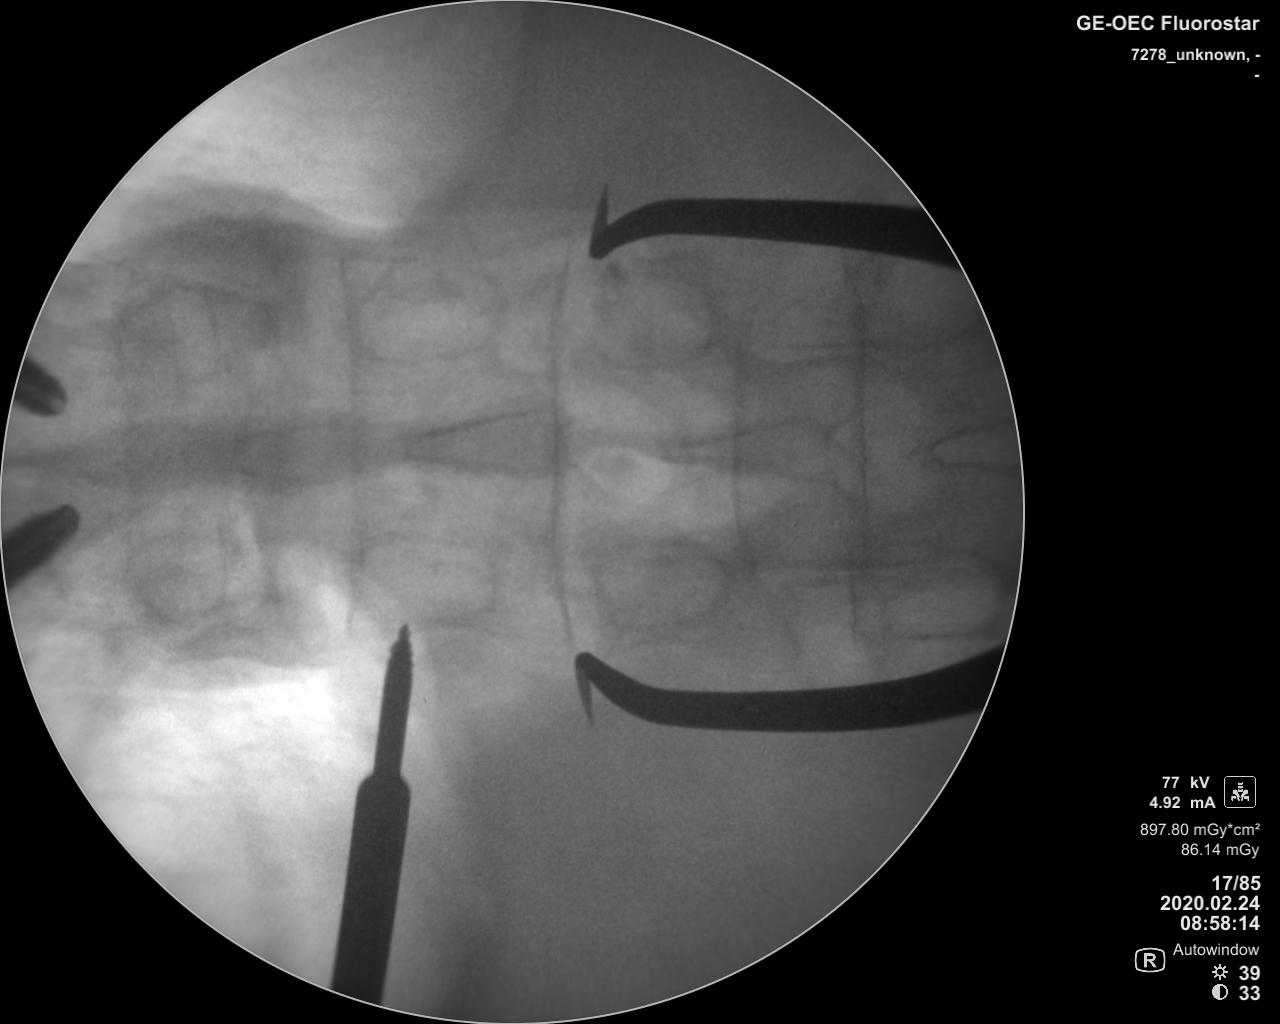eyes: (112, 279, 273, 379), (355, 259, 508, 356), (592, 536, 734, 630), (594, 265, 720, 369), (362, 532, 501, 619), (879, 546, 1002, 637), (127, 532, 246, 625)
line: (330, 246, 371, 639), (544, 238, 580, 652), (848, 255, 884, 597), (727, 265, 761, 584)
nose: (380, 401, 581, 479), (13, 422, 213, 498), (216, 409, 364, 495), (660, 414, 832, 487), (921, 413, 1017, 479)
